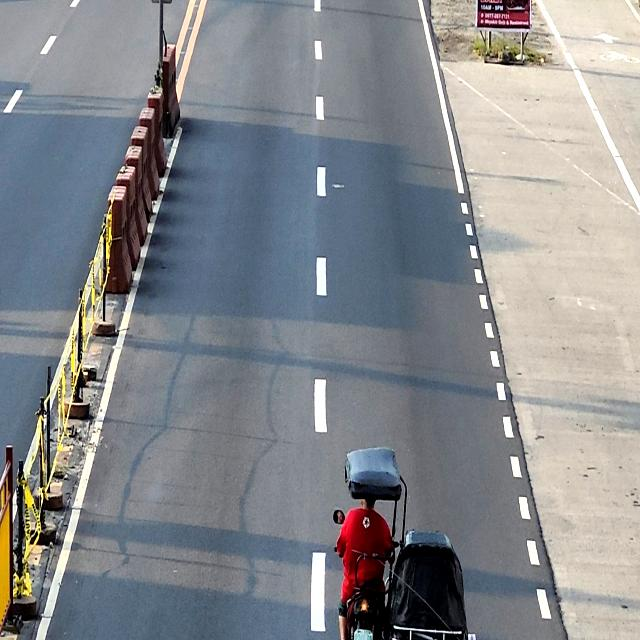License-Plate: (354, 629, 374, 640)
Tricycle: (333, 448, 478, 640)
